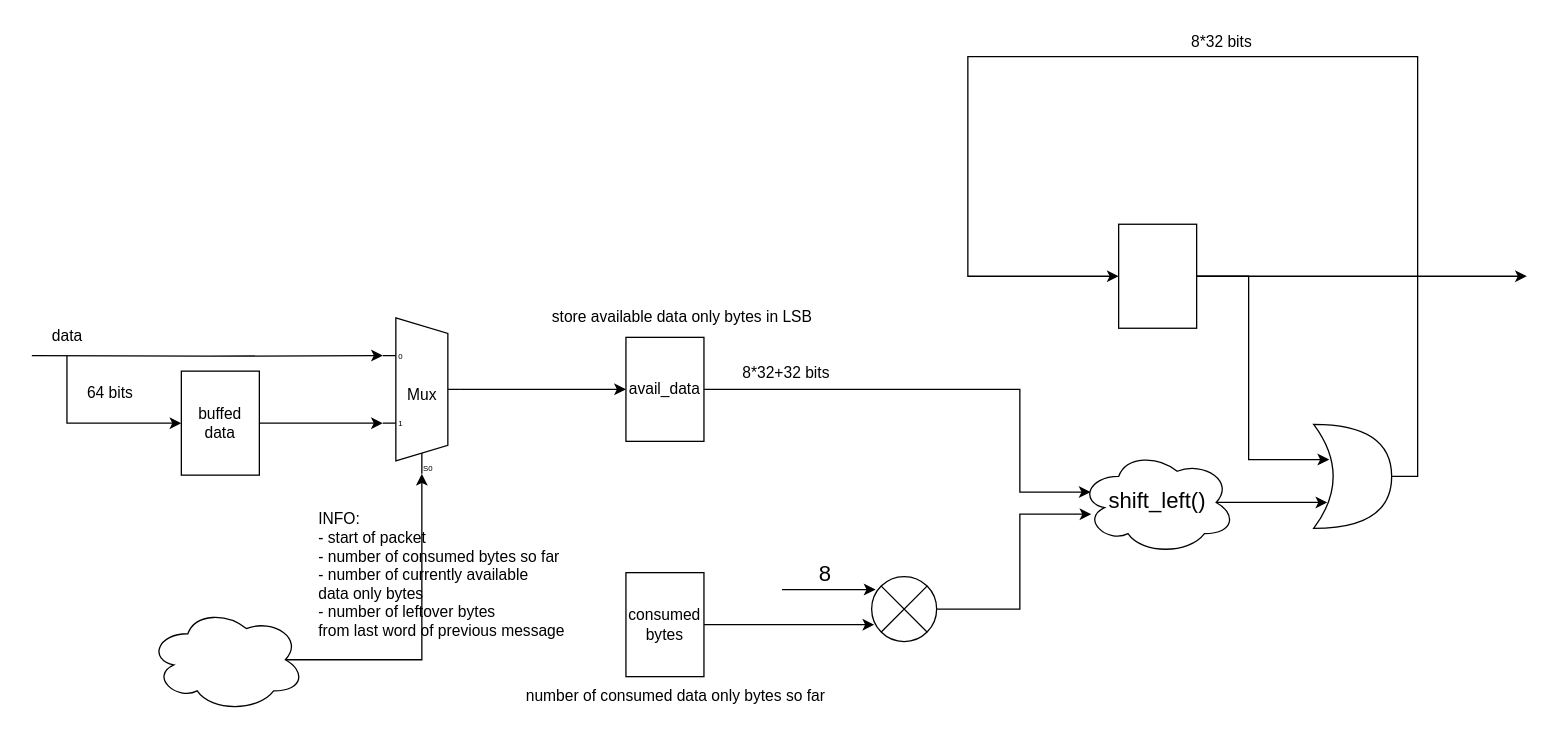
Image size: 1560x737. Some labels were removed from this diagram. Here are the shapes that lost their labels. From the top down, the box of each, then its label:
(1117, 223, 1197, 328): msg_data
(148, 606, 305, 712): logic
